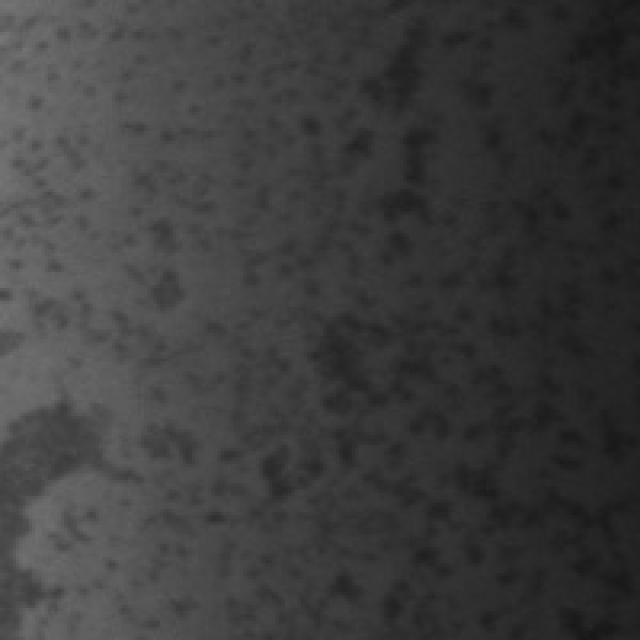pitted_surface: (0, 3, 614, 588), (0, 384, 131, 621)
